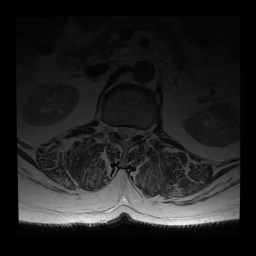CCS_stenosis: (123, 120, 130, 146)
LFS_normal: (137, 124, 143, 141)
LLS_normal: (130, 120, 137, 142)
RFS_stenosis: (110, 120, 117, 137)
RLS_normal: (117, 120, 123, 142)
